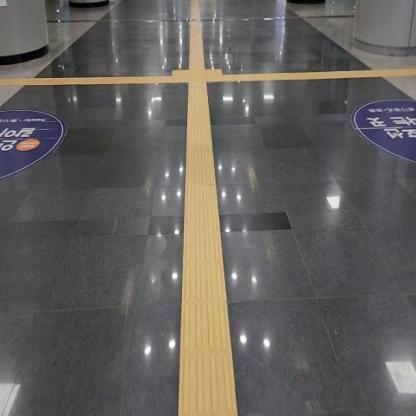podotacti: (177, 82, 236, 415), (158, 57, 233, 101), (224, 68, 416, 80), (0, 76, 170, 88), (188, 0, 205, 69)
